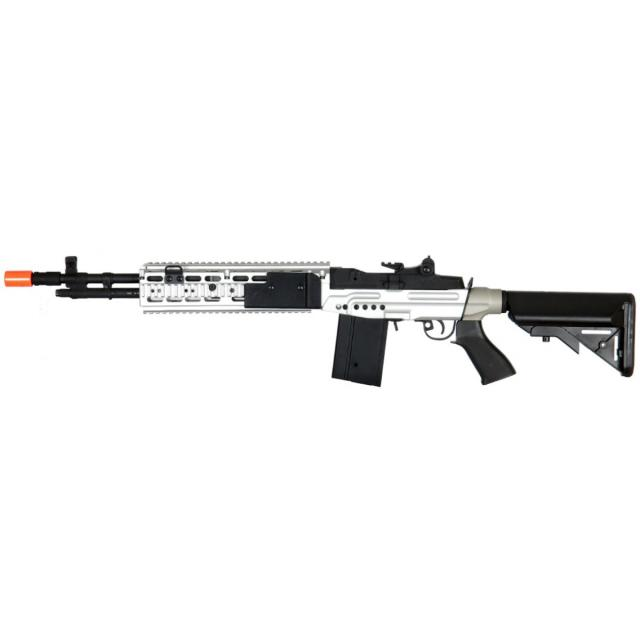Gun: (15, 237, 640, 435)
